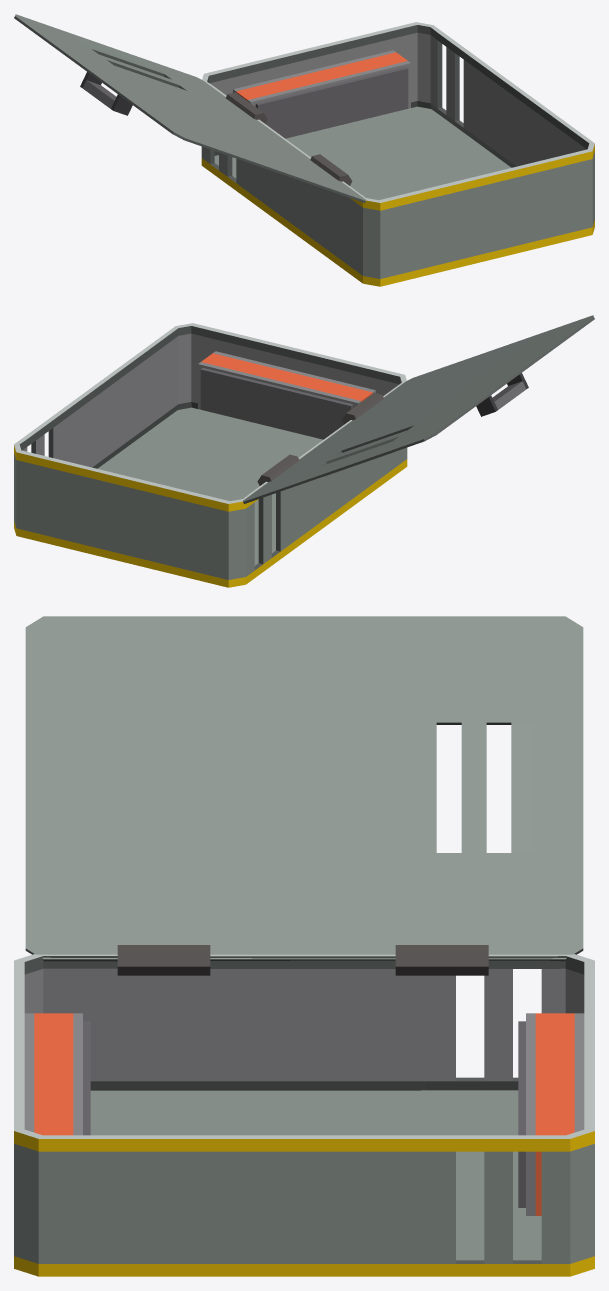
The model's file is Metal_Case.glb.
The picture shows the model from 3 angles, top to bottom: view 1: azimuth 30°, elevation 25°; view 2: azimuth 150°, elevation 25°; view 3: azimuth 270°, elevation 25°; orthographic projection. The views are drawn at different scales.
Visible parts, largest first — view 1: MetalCase_Base, Metalcase_cap; view 2: MetalCase_Base, Metalcase_cap; view 3: Metalcase_cap, MetalCase_Base.
Part boxes in pixels (left/top/right/bottom): MetalCase_Base: left=201, top=22, right=594, bottom=286; Metalcase_cap: left=14, top=14, right=365, bottom=202; MetalCase_Base: left=14, top=323, right=407, bottom=587; Metalcase_cap: left=243, top=315, right=594, bottom=503; Metalcase_cap: left=25, top=616, right=583, bottom=975; MetalCase_Base: left=14, top=954, right=594, bottom=1276.
Size of what is drawn, in the model's own units: 3.63 by 1.62 by 2.64.
1 material, 1 textured.
